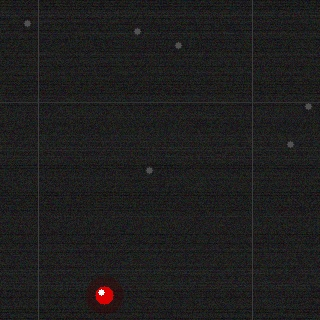red_fault: (93, 284, 115, 306)
